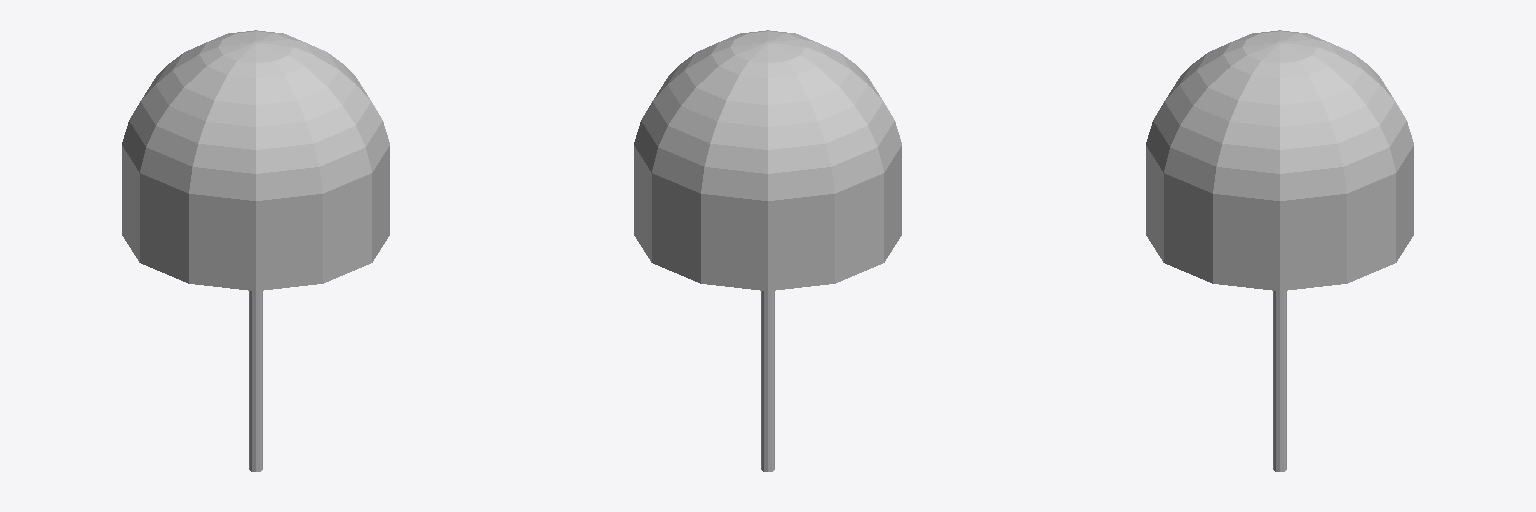
File: Baldcypress_Analytical_0.obj
3 renders of one model, left to right at view 1: azimuth 30°, elevation 25°; view 2: azimuth 150°, elevation 25°; view 3: azimuth 270°, elevation 25°, orthographic.
Parts seen in each view (by area): view 1: AnalyticalCrown, AnalyticalTrunk; view 2: AnalyticalCrown, AnalyticalTrunk; view 3: AnalyticalCrown, AnalyticalTrunk.
Part boxes in pixels (bbox=[...]): AnalyticalCrown: bbox=[122, 30, 389, 290]; AnalyticalTrunk: bbox=[249, 291, 262, 471]; AnalyticalCrown: bbox=[634, 30, 901, 290]; AnalyticalTrunk: bbox=[761, 291, 774, 471]; AnalyticalCrown: bbox=[1146, 30, 1413, 290]; AnalyticalTrunk: bbox=[1273, 291, 1286, 471].
Size of the model in its own units: 17.12 by 30 by 17.12.